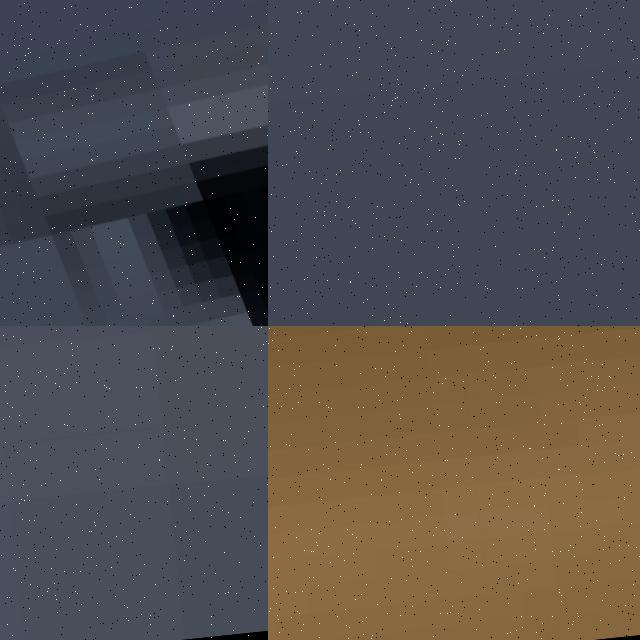drone: (0, 0, 268, 326)
